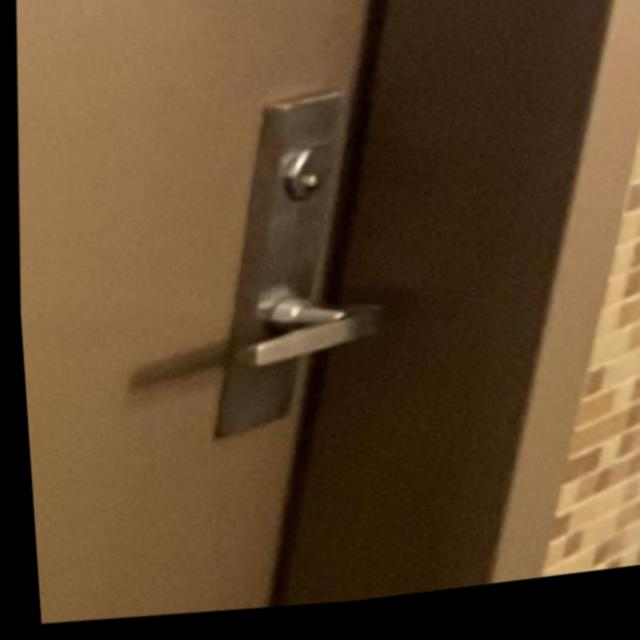door_handle: (199, 271, 414, 403)
